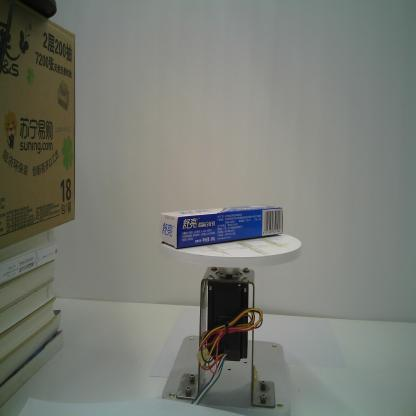Personal Hygiene: (157, 199, 283, 250)
